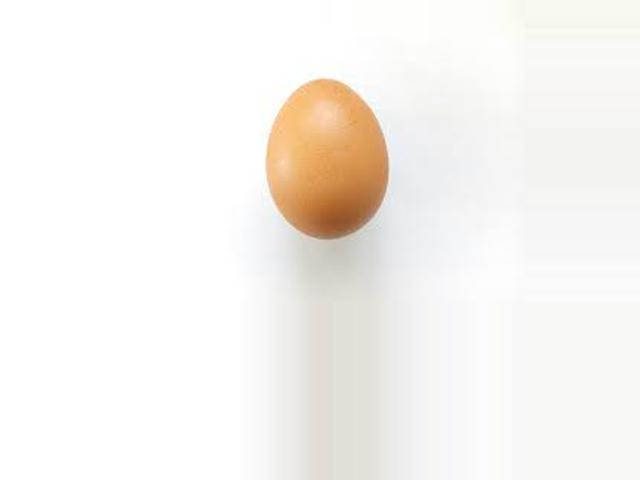egg: (267, 76, 390, 241)
